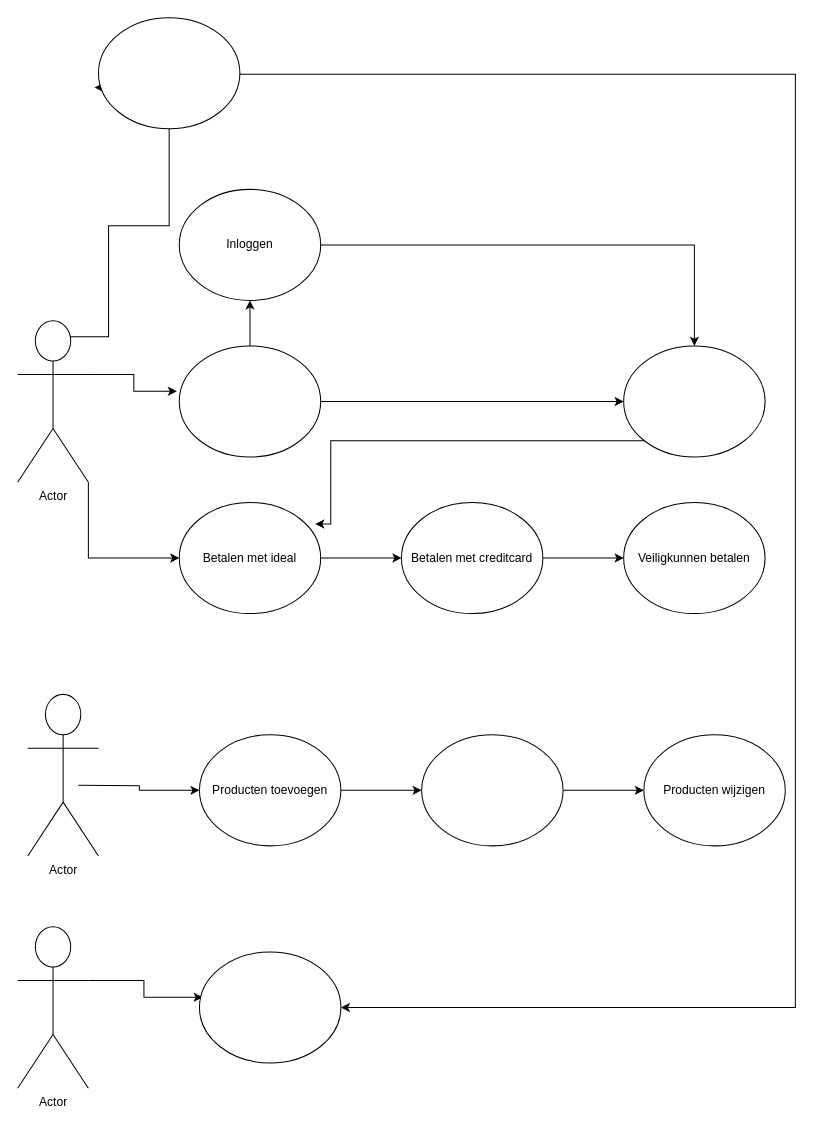
Some shapes in this 821 by 1127 pixel diagram are drawn without their labels. The shapes that lost their labels are listed below. From the top down, each one's centre as x and y in pixels, then its label:
the point at 168,73: Vragen stellen aan de service medewerker
the point at 249,401: Account aanmaken
the point at 694,401: Producten zoeken
the point at 492,790: Producten verwijderen
the point at 269,1007: vragen beantwoorden
